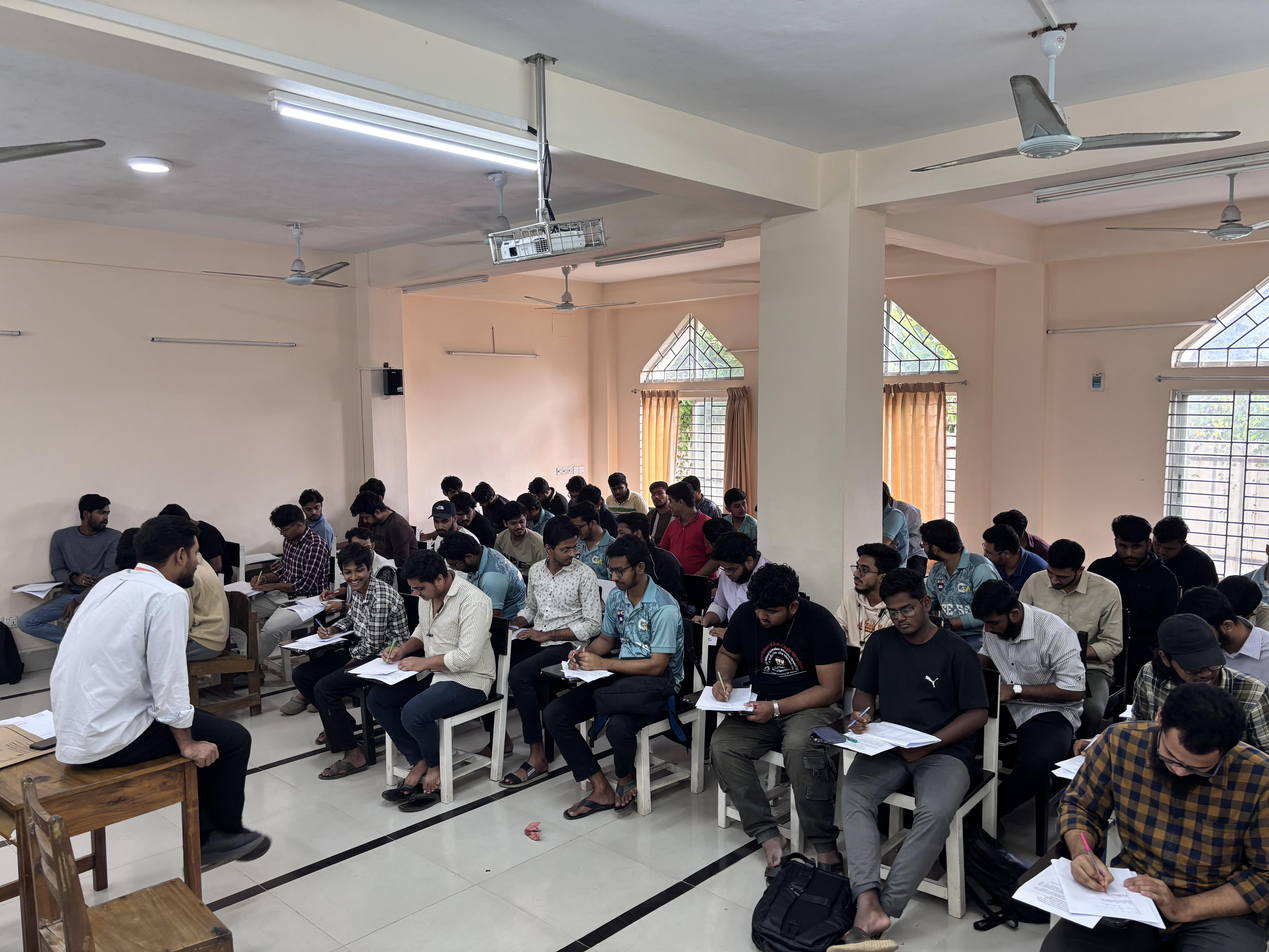copying: (311, 538, 401, 697), (651, 486, 708, 564), (295, 487, 344, 537), (453, 491, 488, 530)
exchanging_sheets: (107, 504, 250, 853)
no_cheating: (1062, 698, 1269, 952), (365, 530, 496, 770), (849, 587, 963, 822), (711, 566, 829, 776), (569, 545, 678, 740), (960, 576, 1064, 760), (1025, 544, 1118, 658), (232, 511, 320, 628), (1104, 512, 1166, 636), (704, 544, 778, 629), (829, 532, 891, 627), (441, 529, 521, 596), (1146, 508, 1216, 583), (341, 492, 411, 550), (602, 467, 646, 516), (415, 499, 466, 534), (524, 471, 567, 511), (522, 472, 565, 505)
side_talking: (46, 486, 131, 611), (911, 520, 995, 604), (481, 502, 538, 563)
suspicious_moving: (518, 529, 605, 728), (1143, 617, 1269, 731), (972, 521, 1042, 572), (718, 487, 761, 528), (642, 477, 669, 513)
